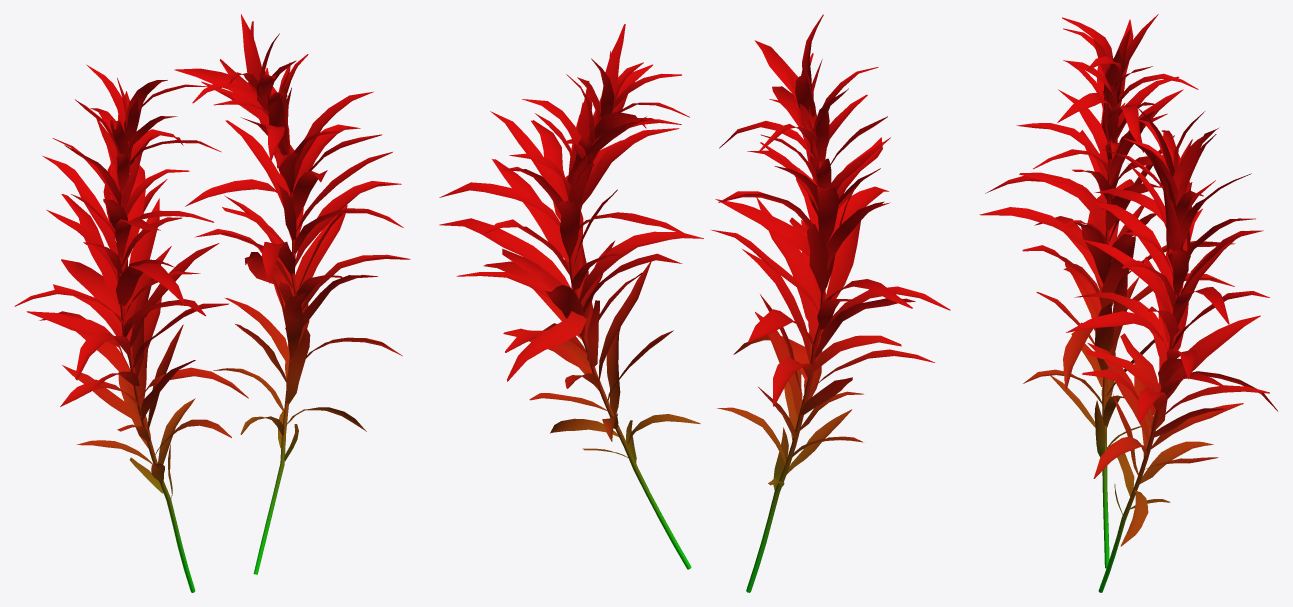
File: Butterfly Weed_LOD1_Var8.fbx
3 views of the same model, side by side, from view 1: azimuth 30°, elevation 25°; view 2: azimuth 150°, elevation 25°; view 3: azimuth 270°, elevation 25° (orthographic). The views are drawn at different scales.
Parts seen in each view (by area): view 1: _mpq8_Var8_LOD1; view 2: _mpq8_Var8_LOD1; view 3: _mpq8_Var8_LOD1.
Boxes of the visible parts, x1,y1,x2,y2 form: _mpq8_Var8_LOD1: (14,14,410,592); _mpq8_Var8_LOD1: (439,14,950,592); _mpq8_Var8_LOD1: (979,14,1277,592).
Bounding box in the file's own units: 64.19 × 79.37 × 40.78.
